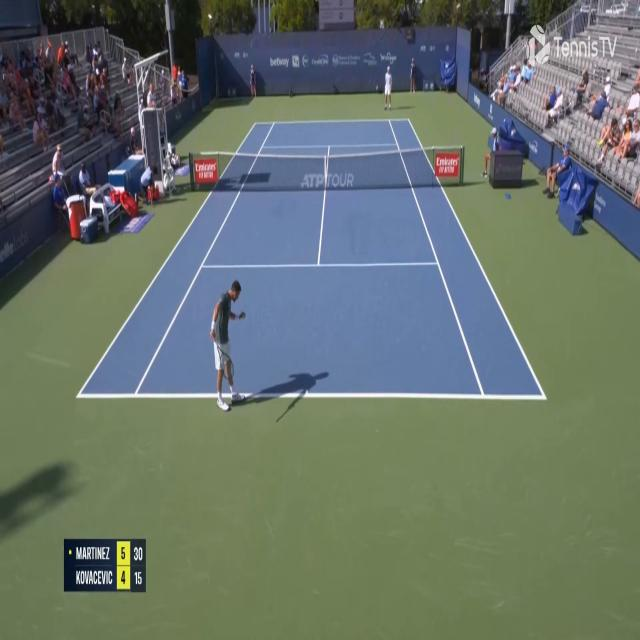tennis-player: (210, 276, 248, 414), (382, 64, 393, 110)
